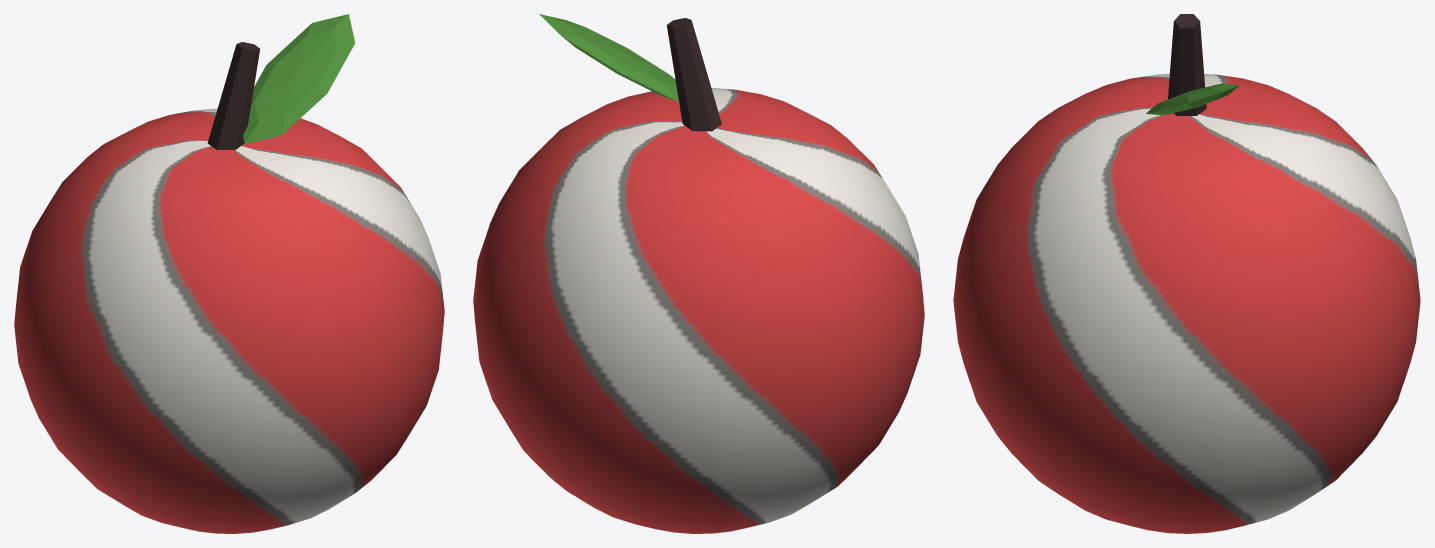
File: Fruit_BaraBara.fbx
3 views of the same model, side by side, from view 1: azimuth 30°, elevation 25°; view 2: azimuth 150°, elevation 25°; view 3: azimuth 270°, elevation 25° (orthographic). The views are drawn at different scales.
Parts seen in each view (by area): view 1: Fruit_BaraBara; view 2: Fruit_BaraBara; view 3: Fruit_BaraBara.
Boxes of the visible parts, box(x1,y1,x2,y2) form: Fruit_BaraBara: box(14, 14, 444, 533); Fruit_BaraBara: box(473, 14, 924, 533); Fruit_BaraBara: box(953, 14, 1420, 533).
Bounding box in the file's own units: 1.6 × 1.9 × 1.6.
Materials: 1 (1 with a texture image).
